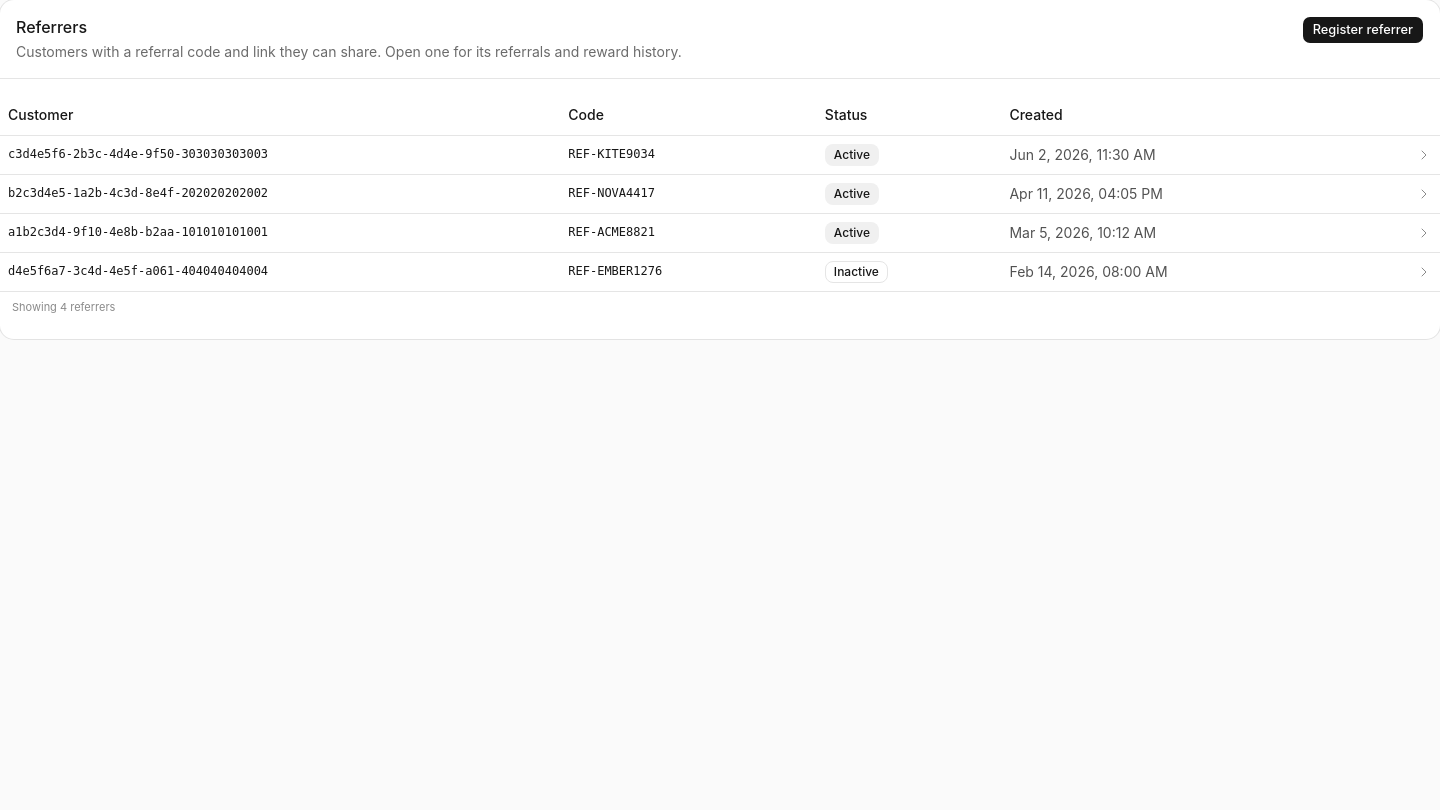
it: ReferrersSection — register referrer mutation flow › registers a new referrer and shows it in the refreshed list
The width and height of the screenshot is (1440, 810).
Expected: the text "REF-ACME8821" is shown, left=560, top=213, right=817, bottom=252
Click the button "Register referrer".
click(1363, 30)  # box left=1302, top=16, right=1424, bottom=44
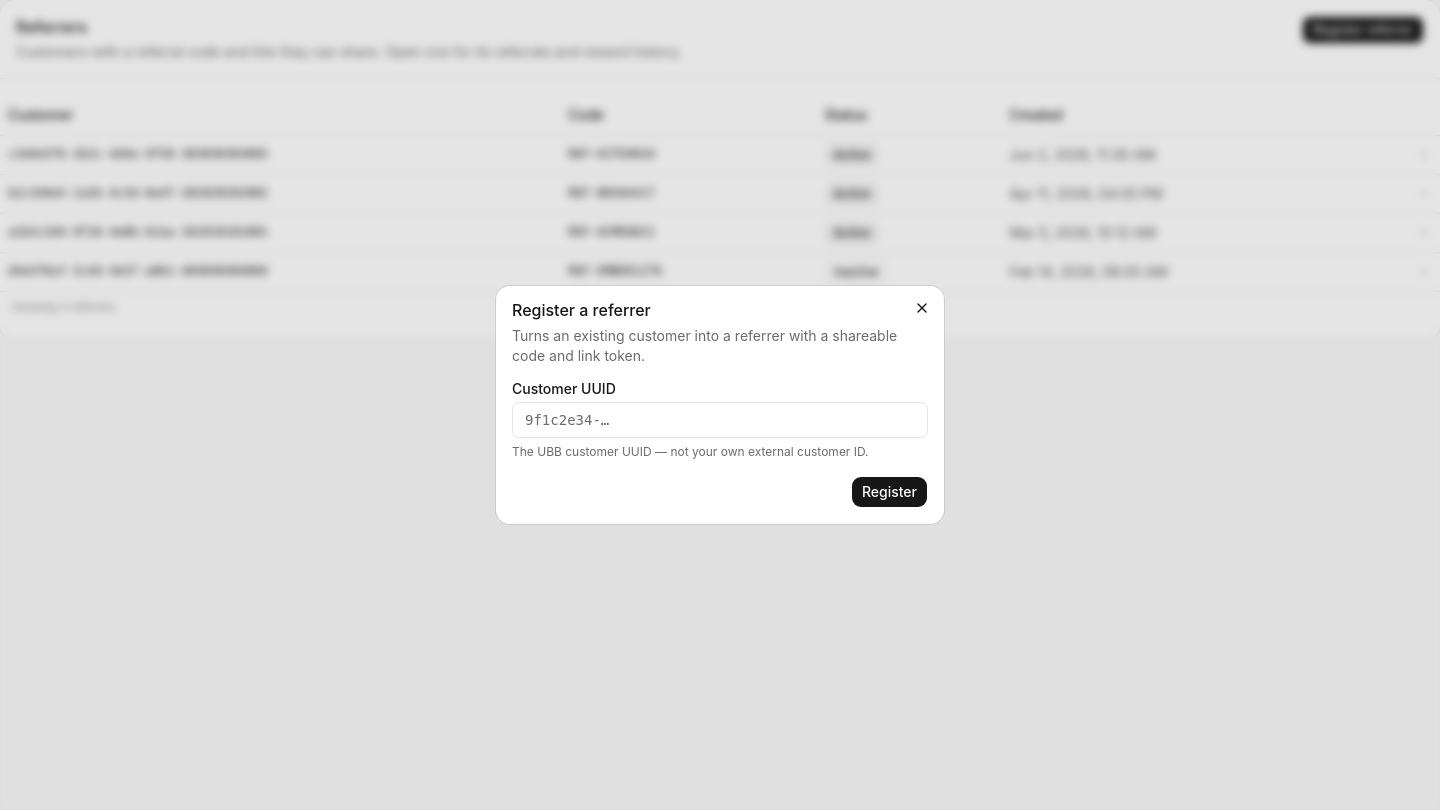
Type "deadbeef-0000-4000-8000-000000000001" into the field labelled "Customer UUID".
click(720, 420); type("deadbeef-0000-4000-8000-000000000001")  # box left=512, top=402, right=928, bottom=438
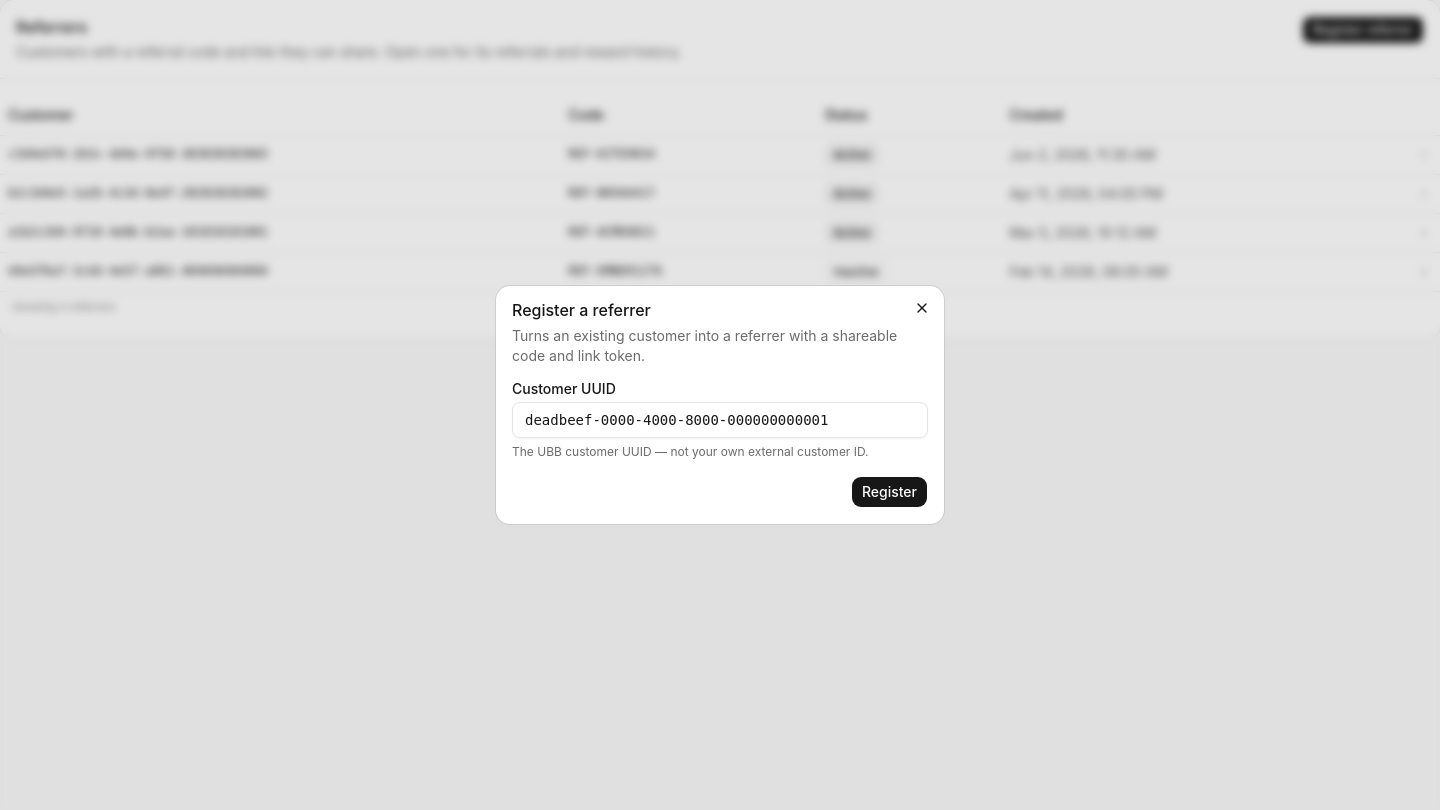
Click the button "Register".
click(889, 492)  # box left=851, top=476, right=928, bottom=508
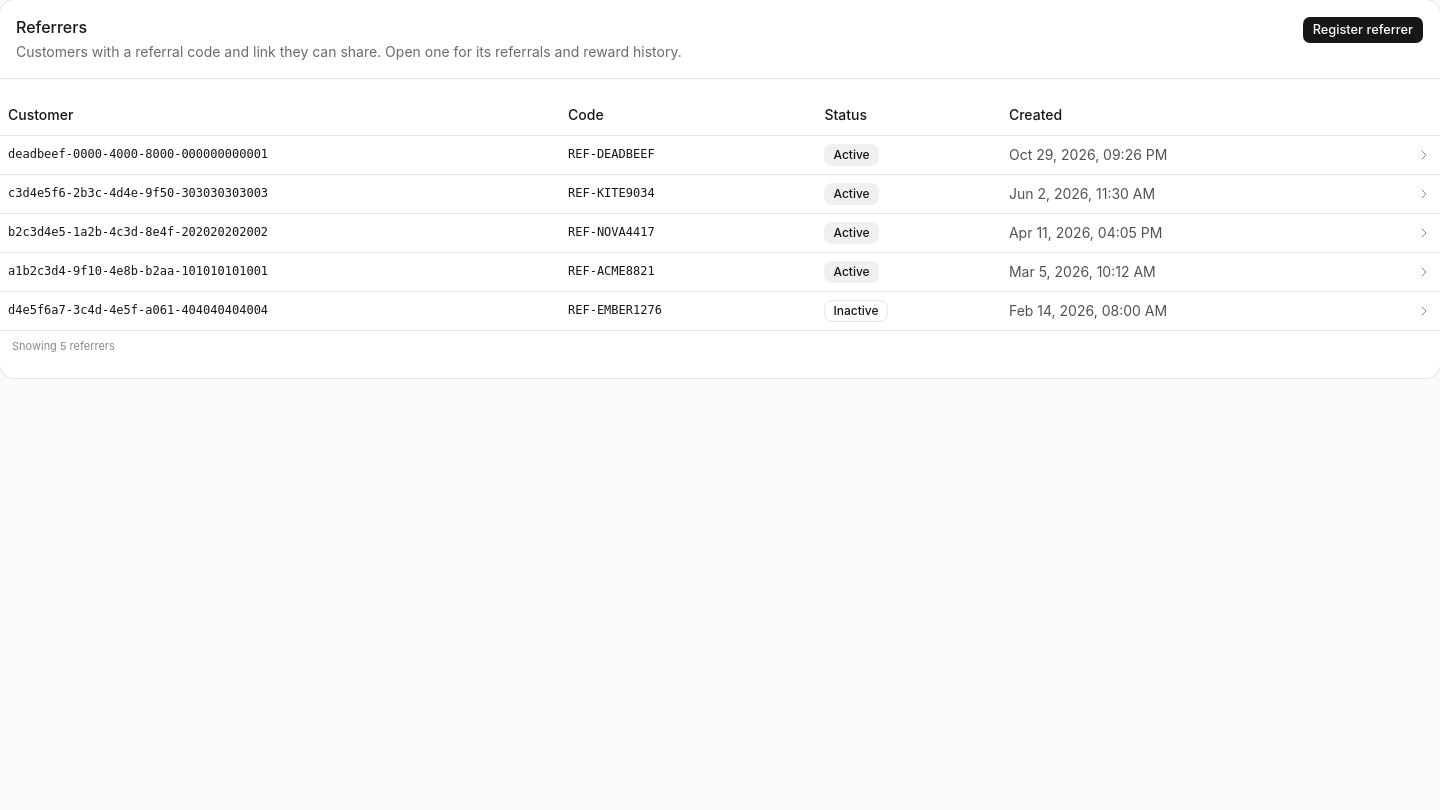
Now the text "REF-DEADBEEF" is shown, box left=560, top=135, right=816, bottom=174
